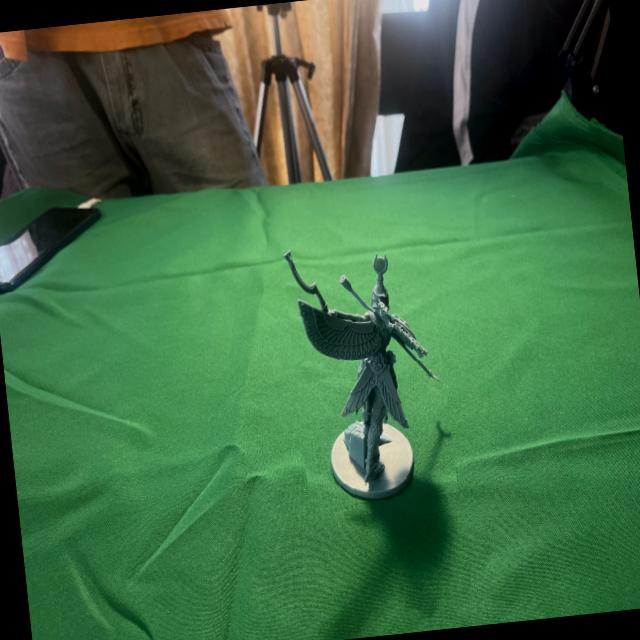isis: (280, 222, 457, 508)
